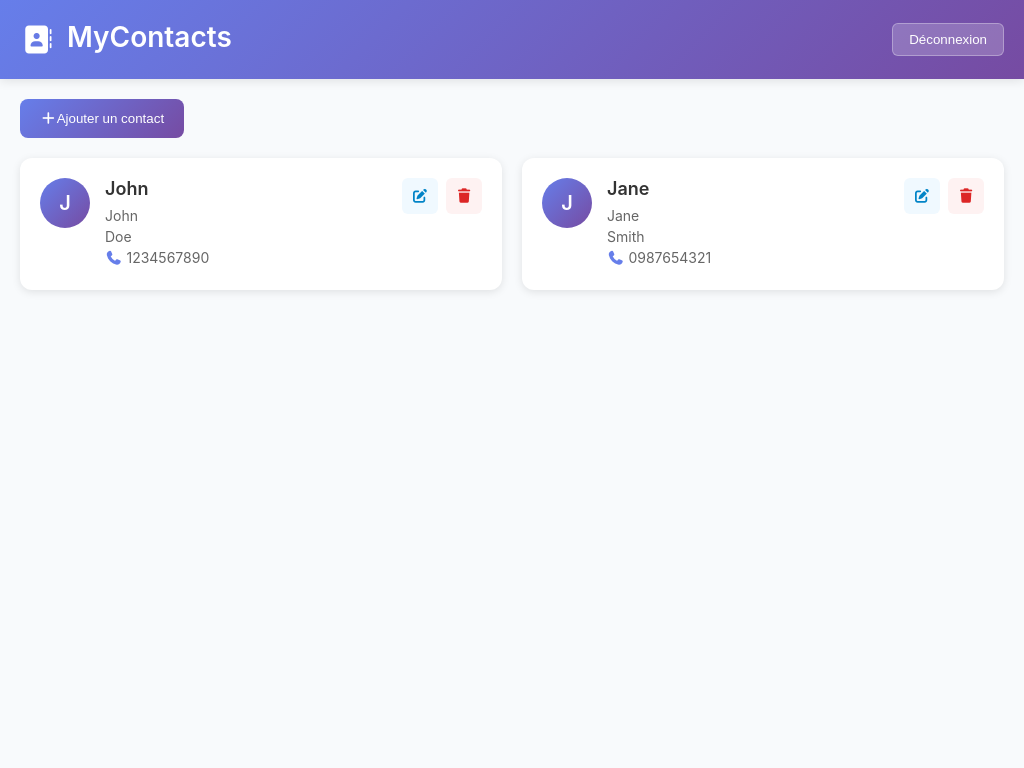
Contacts Component › Edit Contact Modal › opens edit modal when edit button is clicked
The image size is (1024, 768).
Check: the heading "John" is shown, box x1=105 y1=178 x2=148 y2=199
Click the 1st button titled "Modifier" at [420, 196], box x1=402 y1=178 x2=438 y2=214
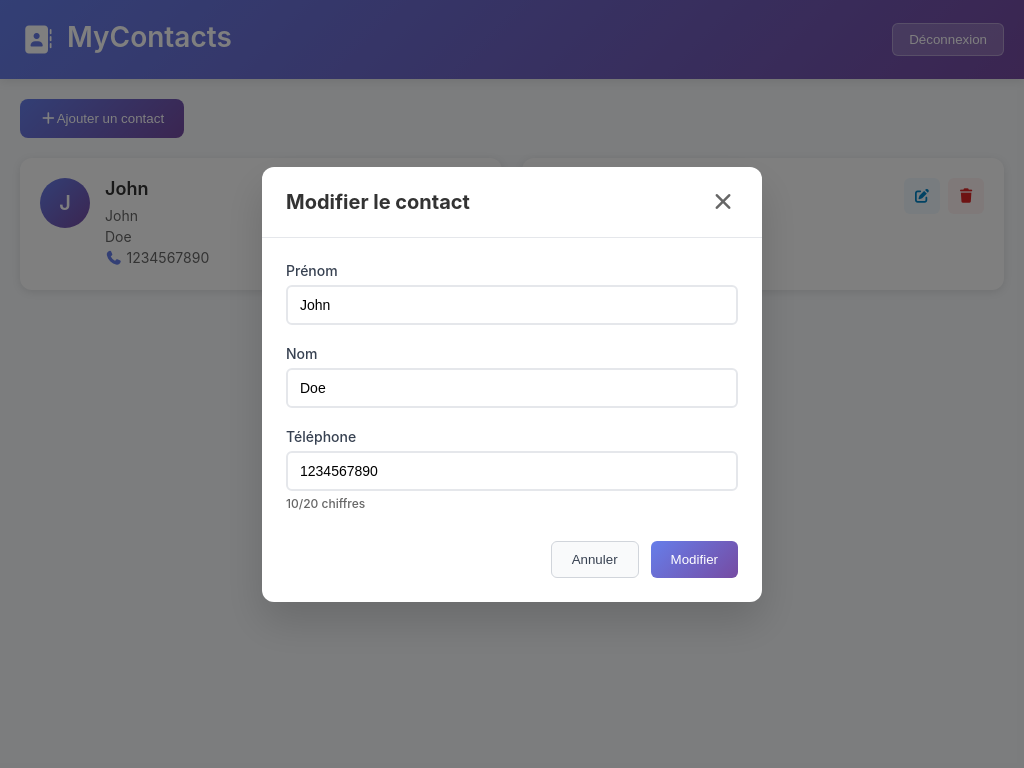
Check: the heading "Modifier le contact" is shown, box x1=286 y1=190 x2=470 y2=214
Check: the field showing "John" is shown, box x1=286 y1=284 x2=738 y2=324
Check: the field showing "Doe" is shown, box x1=286 y1=368 x2=738 y2=408
